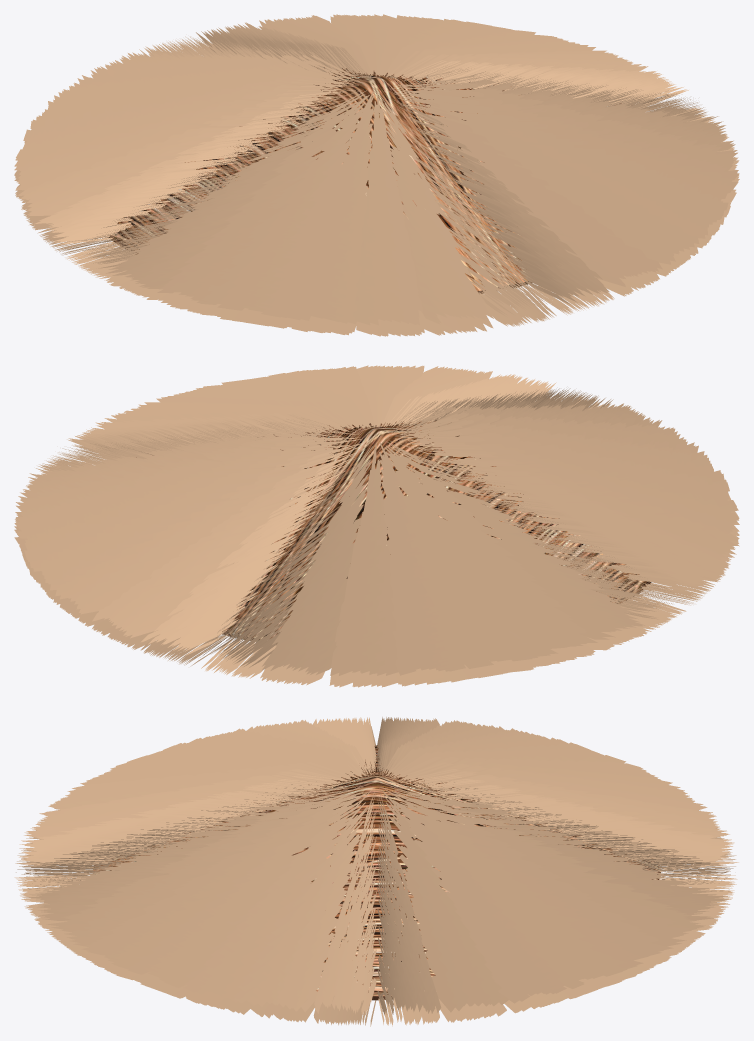
The model's file is Straw roof 1.fbx.
3 views of the same model, one above another, from view 1: azimuth 30°, elevation 25°; view 2: azimuth 150°, elevation 25°; view 3: azimuth 270°, elevation 25° (orthographic). The views are drawn at different scales.
Visible parts, largest first — view 1: Mesh; view 2: Mesh; view 3: Mesh.
Part boxes in pixels (x1,y1,x2,y2): Mesh: [14, 14, 739, 336]; Mesh: [14, 365, 739, 687]; Mesh: [14, 717, 738, 1026].
Bounding box in the file's own units: 1374 × 220 × 1404.
